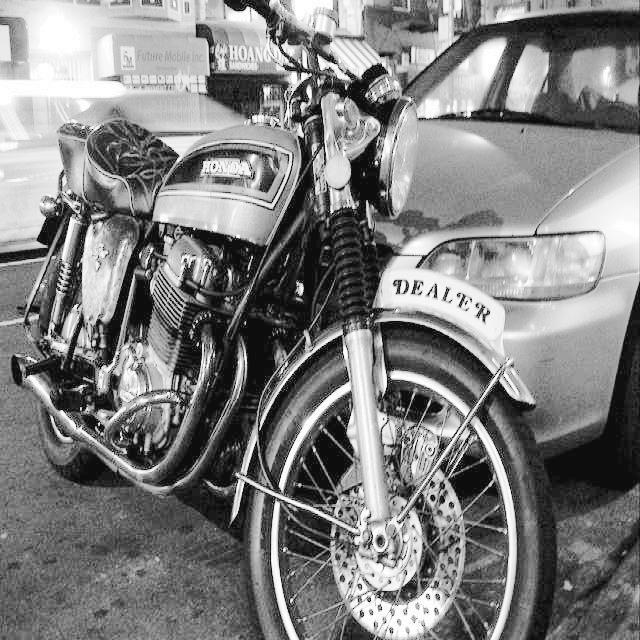Car: (399, 3, 636, 484)
Motorcycle: (28, 4, 562, 640)
